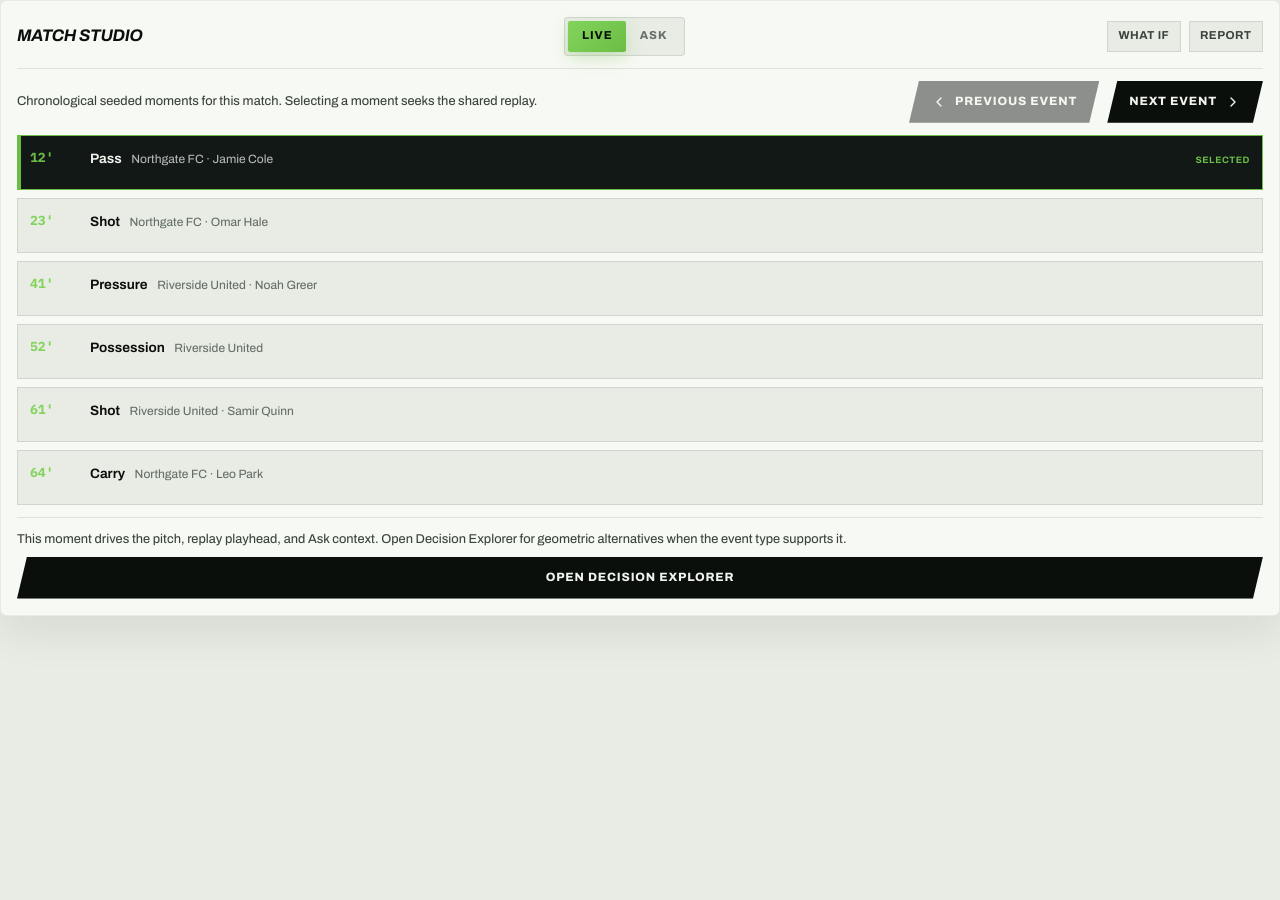
Test: MatchStudioPanel › switches between LIVE and ASK tabs with accessible selection
This screenshot has width=1280, height=900.
Expected: the panel with test id "match-studio-live" is shown, [17,81,1263,598]
Click the tab "Ask": (654, 36) [626,21,681,52]
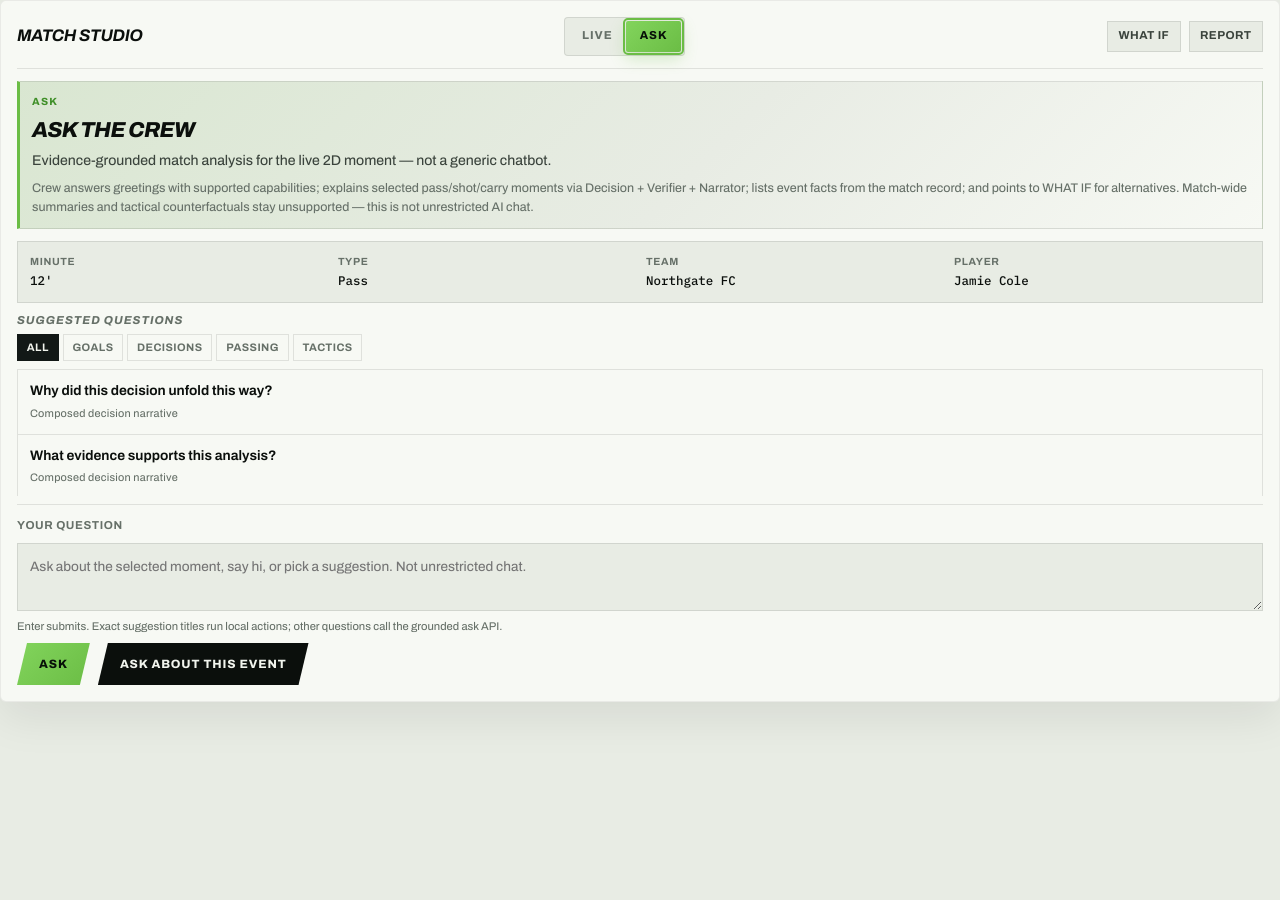
Expected: the panel with test id "match-studio-ask" is shown
Expected: the heading "Ask the crew" is shown, [32,118,194,142]
